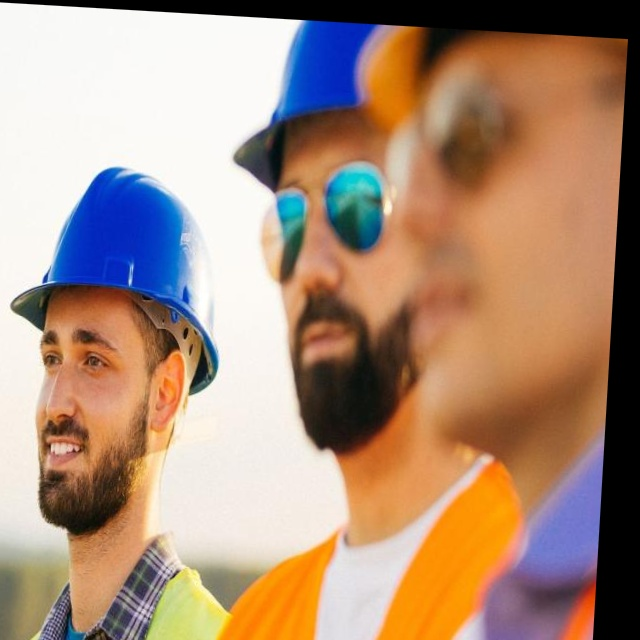Con_Casco: (6, 161, 231, 537)
